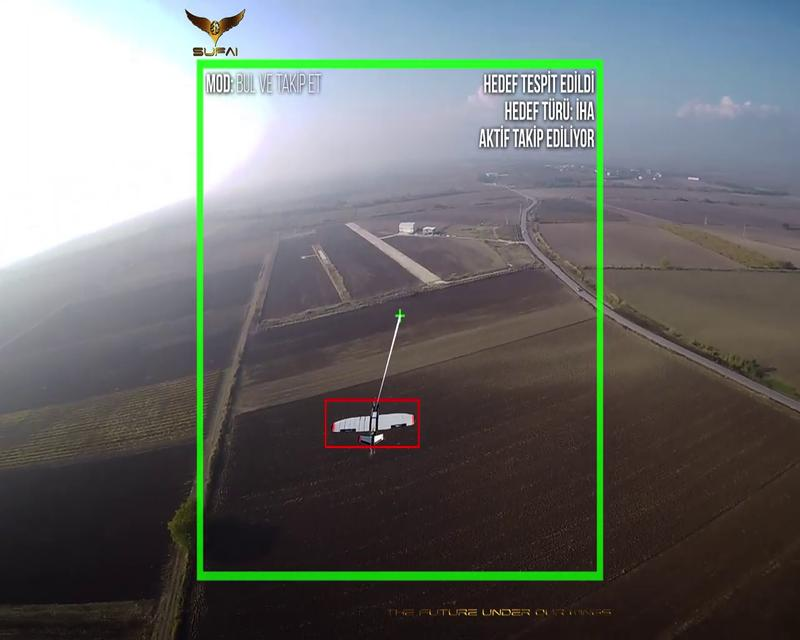UAV: (330, 400, 415, 445)
